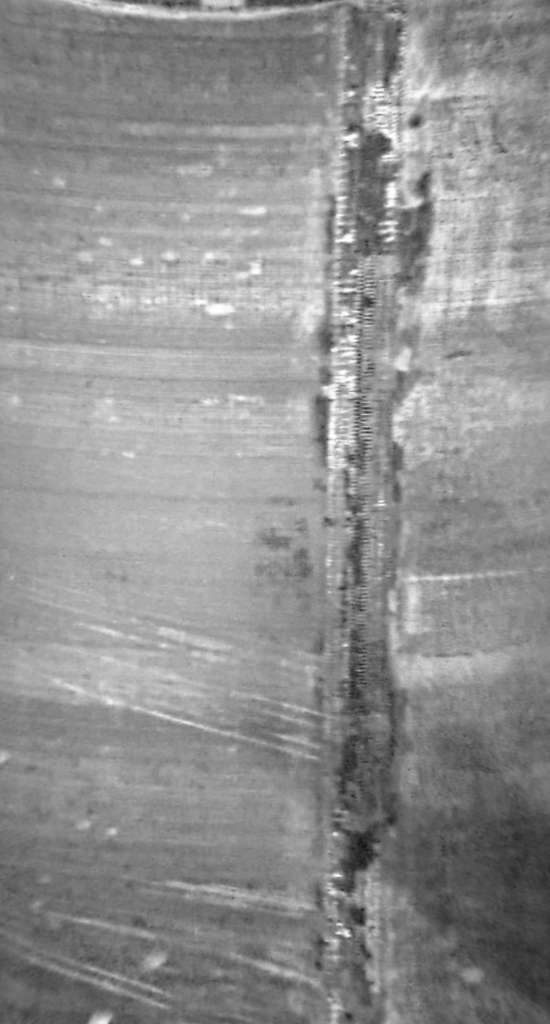splice: (308, 7, 452, 1021)
